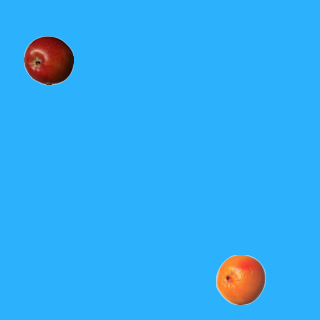Apple Braeburn: (23, 35, 73, 85)
Grapefruit Pink: (215, 254, 265, 304)
